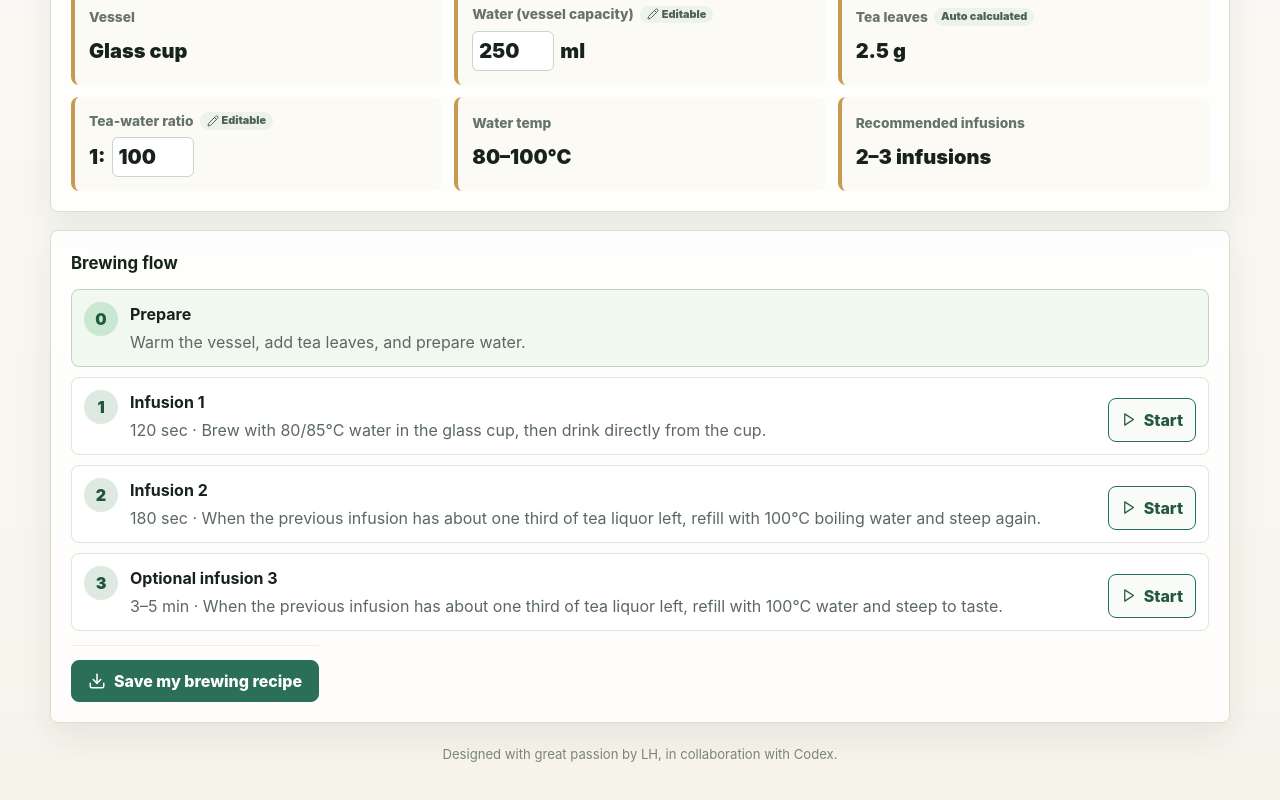
Test: Tea Master app › moves focus into the timer dialog, closes with Escape, and restores focus
(page scrolled)
Expected: the list item "Infusion 1" is shown, left=130, top=392, right=204, bottom=412
Click the button "Start" in the row of "Infusion 1" at (1152,420), box left=1108, top=398, right=1196, bottom=442
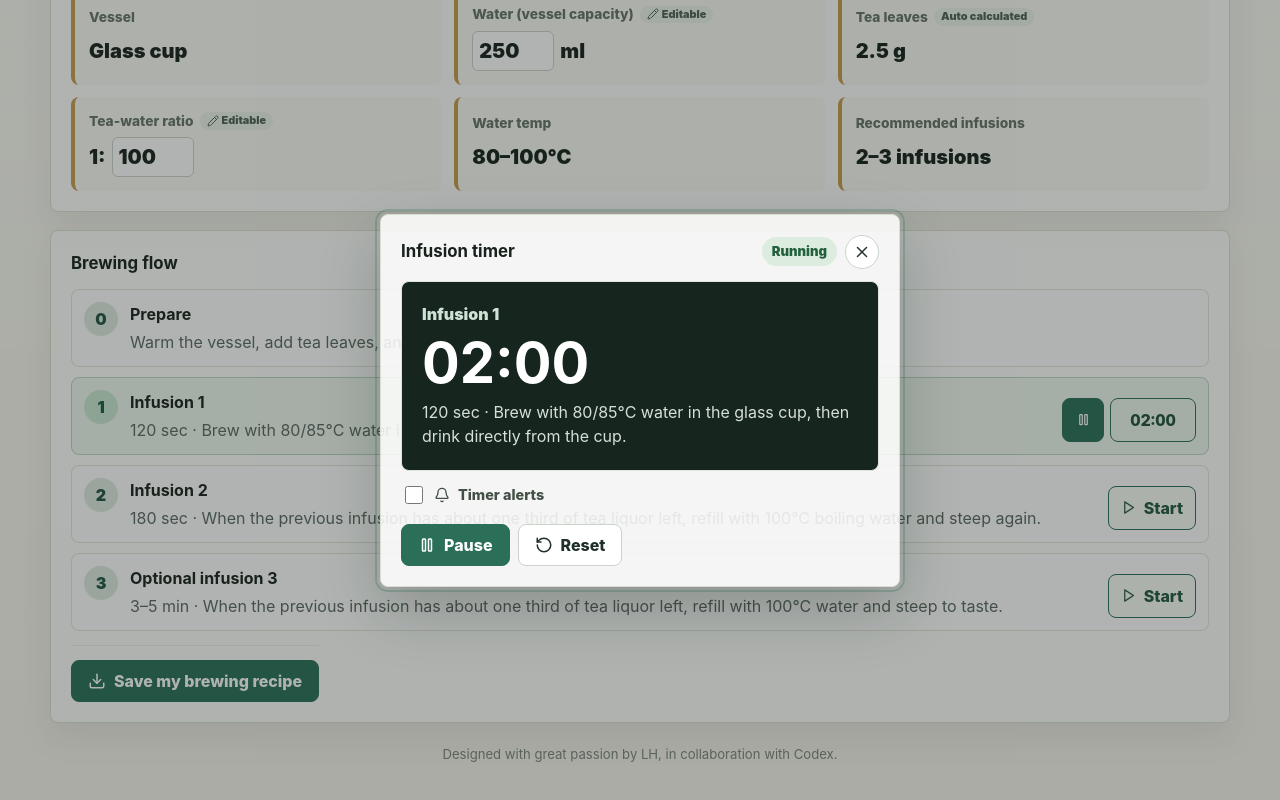
Now the checkbox labelled "Timer alerts" is not checked, box left=405, top=486, right=423, bottom=504
Press Escape in the dialog "Infusion timer", box left=380, top=214, right=900, bottom=586
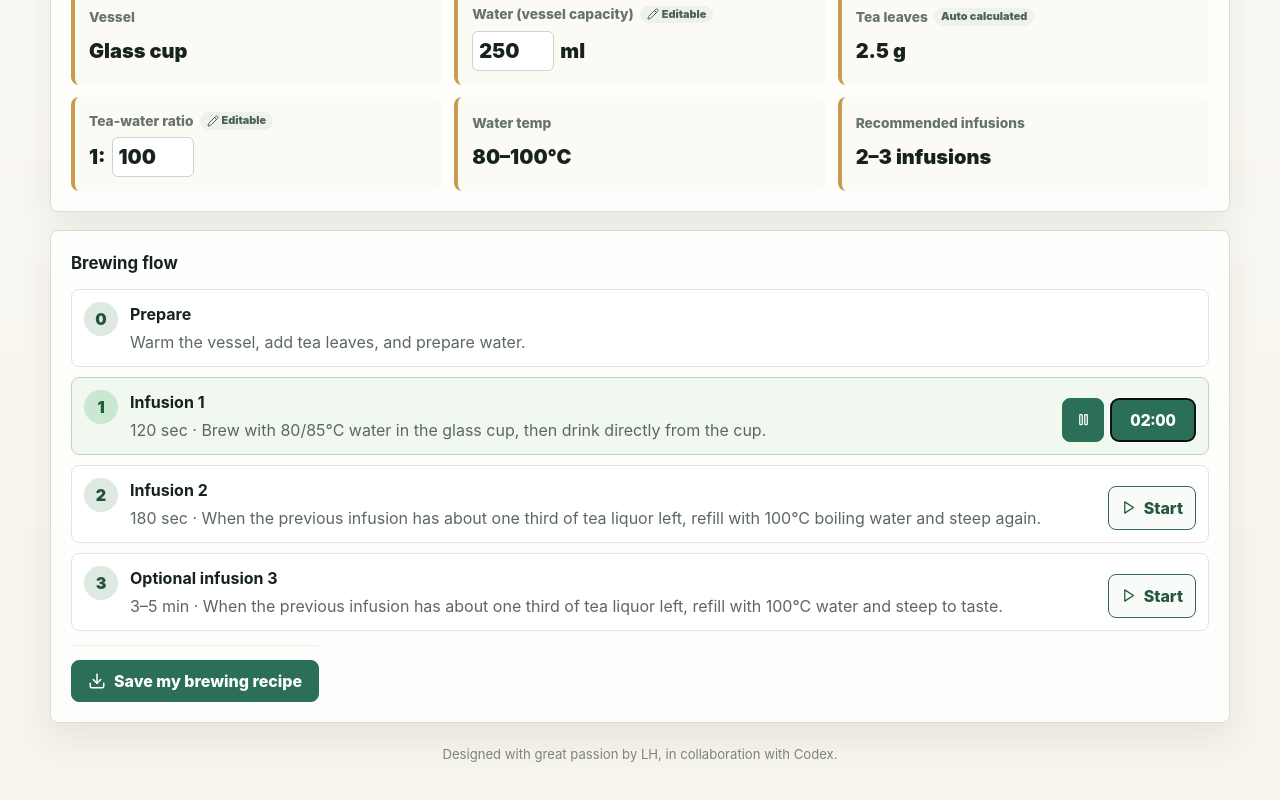
Now the heading "Infusion timer" is gone
